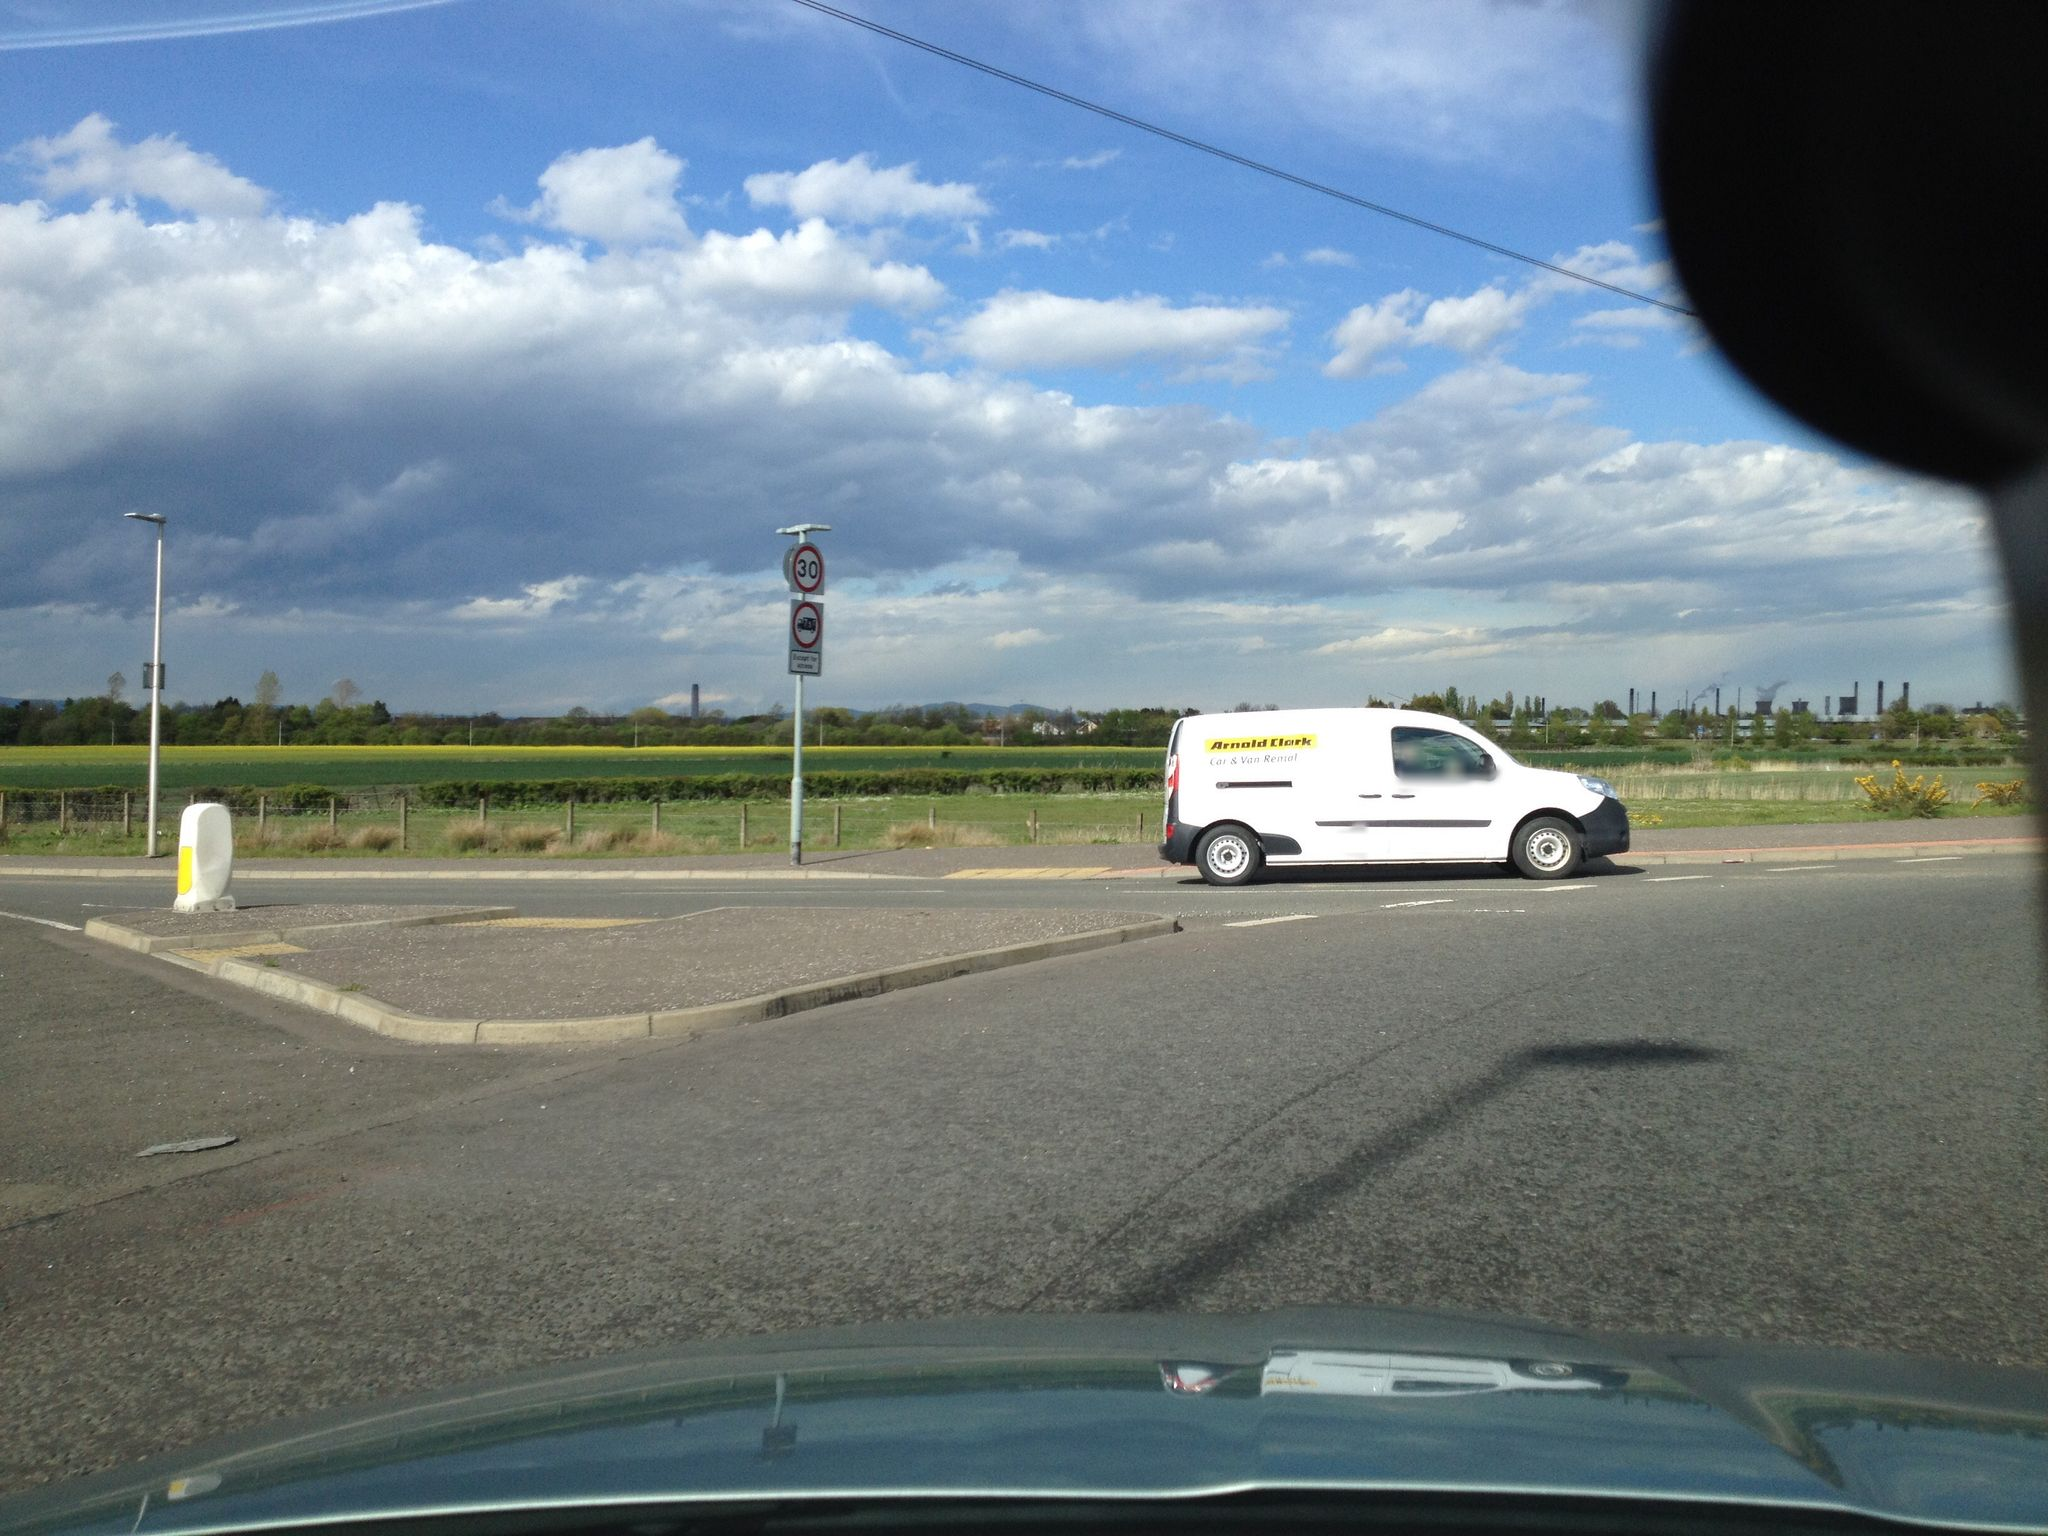car: (1163, 705, 1634, 883)
